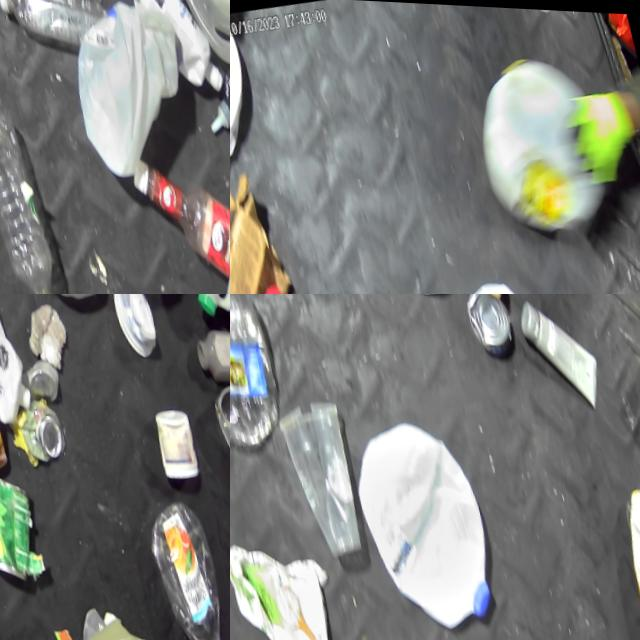can: (0, 459, 43, 585), (3, 391, 67, 465), (146, 398, 200, 480), (104, 294, 160, 357), (14, 352, 62, 404)
milk_jug: (338, 400, 500, 636), (51, 0, 204, 184)
non_white_jug: (610, 470, 640, 640)
plastic_bottle: (133, 486, 230, 640), (0, 104, 61, 294), (0, 0, 124, 68)
